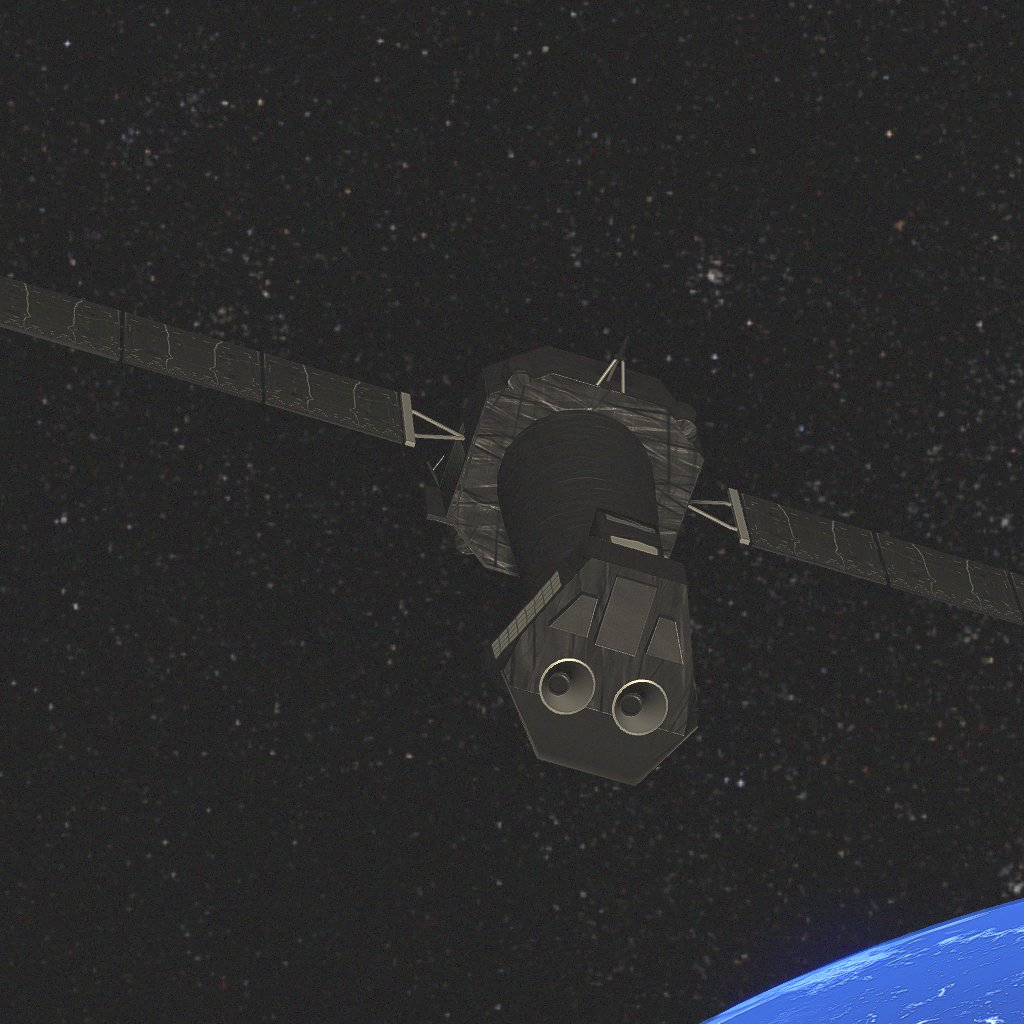xmm_newton: (0, 276, 1024, 786)
